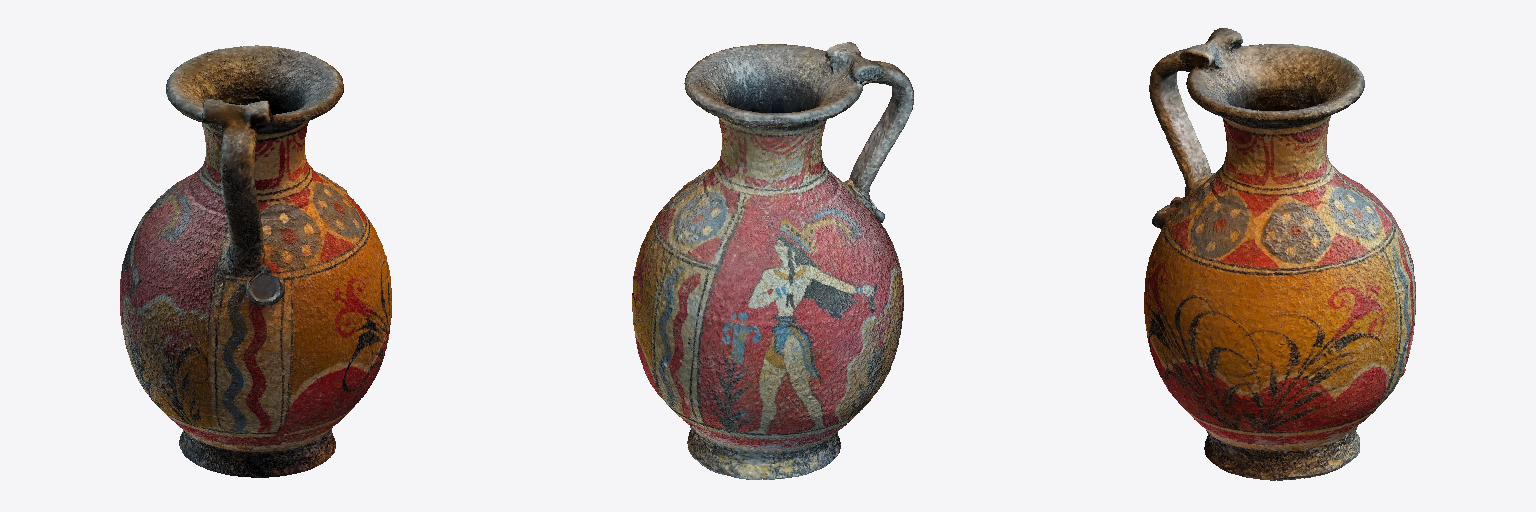
3 views of the same model, side by side, from view 1: azimuth 30°, elevation 25°; view 2: azimuth 150°, elevation 25°; view 3: azimuth 270°, elevation 25° (orthographic).
Parts seen in each view (by area): view 1: Object; view 2: Object; view 3: Object.
Part boxes in pixels (x1,y1,x2,y2): Object: (120,45,391,477); Object: (632,42,913,479); Object: (1144,28,1415,480).
Bounding box in the file's own units: 0.6216 × 0.9584 × 0.6204.
Materials: 1 (1 with a texture image).